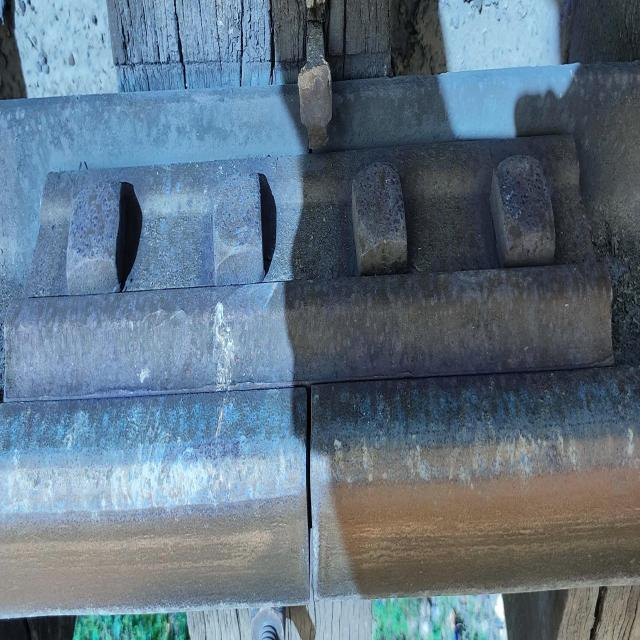Good Fasteners: (297, 0, 332, 151)
Good Joint: (3, 136, 613, 410)
